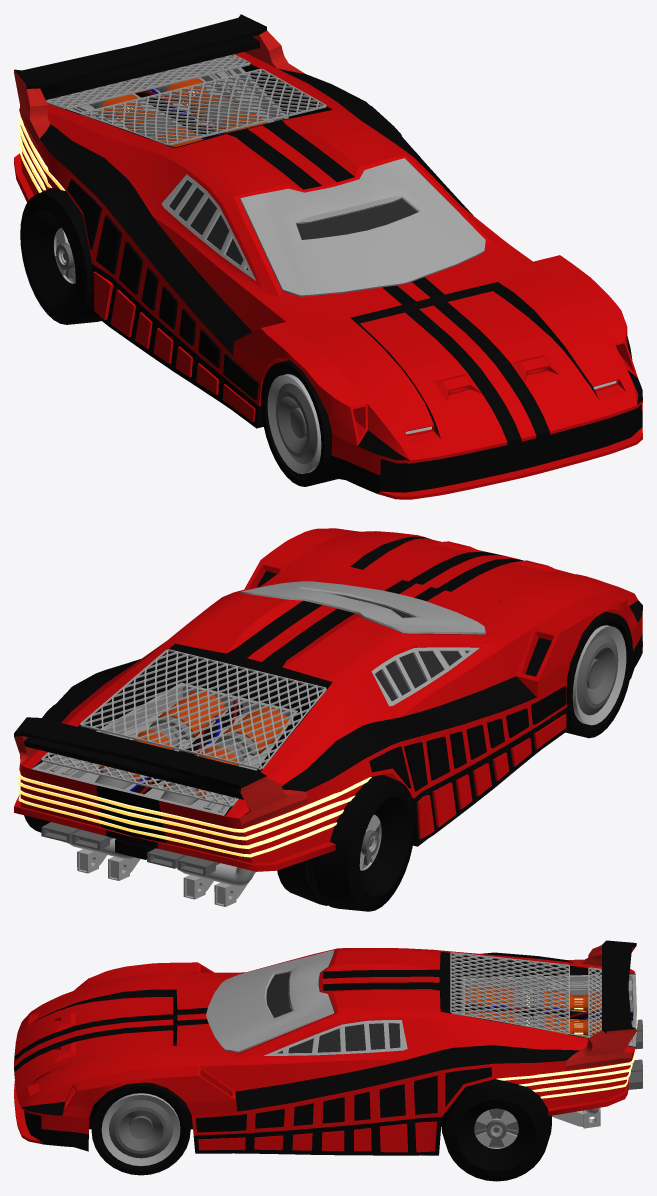
Rendered from Cyberpunk Car - 3 level(3).fbx.
The picture shows the model from 3 angles, top to bottom: view 1: azimuth 30°, elevation 25°; view 2: azimuth 150°, elevation 25°; view 3: azimuth 270°, elevation 25°; orthographic projection. The views are drawn at different scales.
Visible parts, largest first — view 1: Cyberpunk car, Hood, armor, spoiler, front detail upper wheels, grille, back wheels, front wheels, grille.001, reactors, grille.002, back path of caar (+1 smaller); view 2: Cyberpunk car, back wheels, grille, spoiler, front detail upper wheels, Hood, front wheels, back path of caar, bacj lights, armor, reactors, back car another detail (+5 smaller); view 3: Cyberpunk car, back wheels, Hood, front wheels, armor, grille, front detail upper wheels, spoiler, reactors, back path of caar, bacj lights, grille.002 (+4 smaller).
Part boxes in pixels (x1,y1,x2,y2): Cyberpunk car: (14,52,642,499); Hood: (360,291,607,454); armor: (240,158,485,296); spoiler: (14,14,304,150); front detail upper wheels: (233,255,637,446); grille: (80,69,326,145); back wheels: (20,188,100,324); front wheels: (261,336,632,486); grille.001: (46,54,250,109); reactors: (86,72,267,147); grille.002: (161,174,255,280); back path of caar: (65,60,332,148); Cyberpunk car: (14,531,642,871); back wheels: (24,704,415,911); grille: (80,649,326,769); spoiler: (14,717,308,827); front detail upper wheels: (244,528,637,697); Hood: (363,538,574,602); front wheels: (565,611,632,738); back path of caar: (32,643,332,815); bacj lights: (18,772,371,857); armor: (240,581,485,634); reactors: (95,691,288,805); back car another detail: (77,849,255,906); Cyberpunk car: (14,948,636,1155); back wheels: (441,1079,551,1181); Hood: (14,997,173,1094); front wheels: (91,1082,190,1175); armor: (206,950,334,1052); grille: (450,952,569,1034); front detail upper wheels: (62,962,237,1117); spoiler: (565,940,636,1069); reactors: (465,986,632,1035); back path of caar: (439,951,635,1047); bacj lights: (496,1014,637,1098); grille.002: (264,1020,407,1055).
Size of the model in its own units: 7.93 by 4.25 by 16.62.
